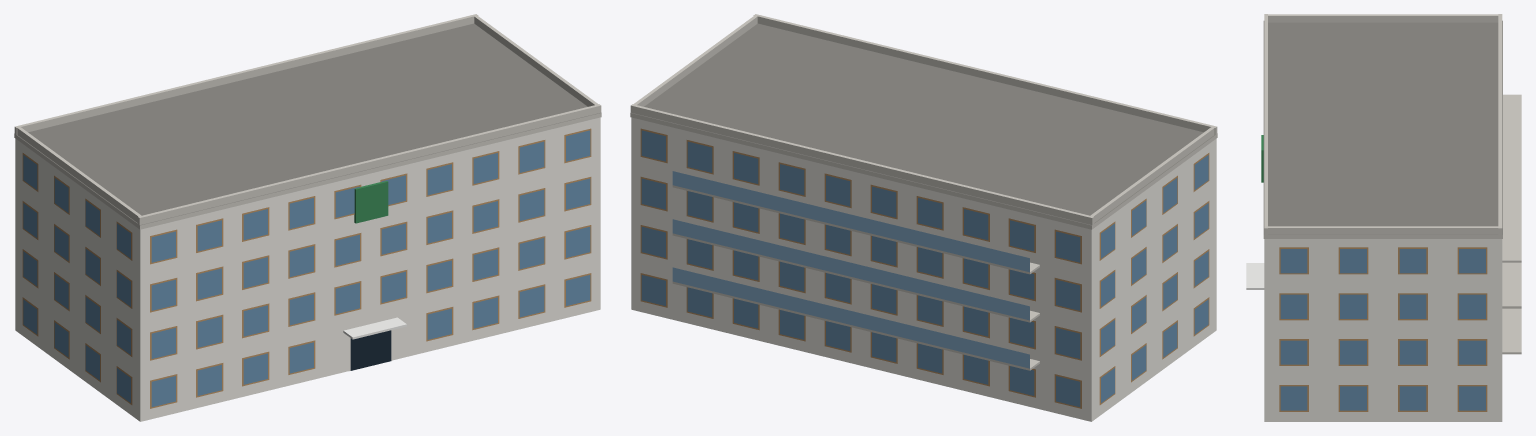
Rendered from clinique.glb.
3 renders of one model, left to right at view 1: azimuth 30°, elevation 25°; view 2: azimuth 150°, elevation 25°; view 3: azimuth 270°, elevation 25°, orthographic. The views are drawn at different scales.
Visible parts, largest first — view 1: clinique; view 2: clinique; view 3: clinique.
Boxes of the visible parts, x1,y1,x2,y2 form: clinique: [14, 14, 601, 421]; clinique: [630, 14, 1217, 421]; clinique: [1246, 14, 1521, 421].
Size of the model in its own units: 34.1 by 14.4 by 18.5.
1 material, 1 textured.
